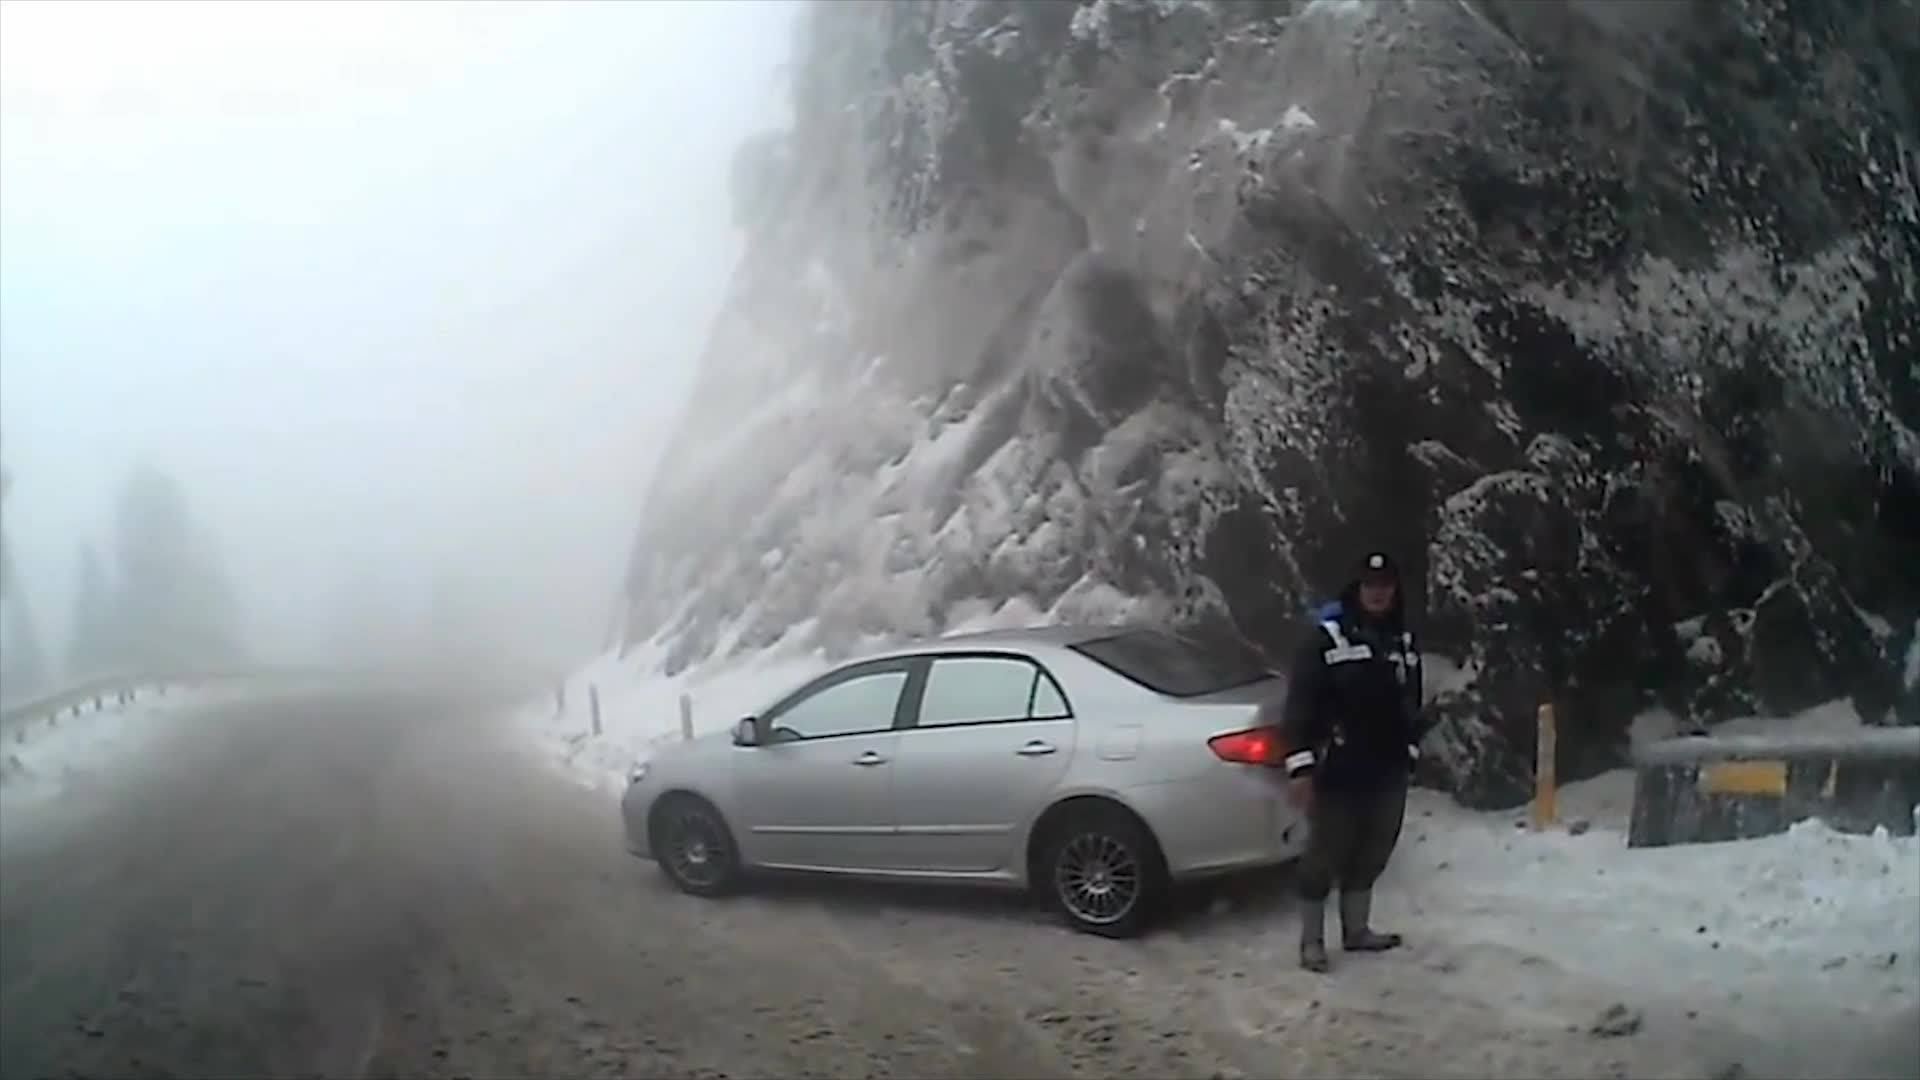pedestrian: (1282, 550, 1421, 978)
vehicle: (625, 625, 1385, 940)
